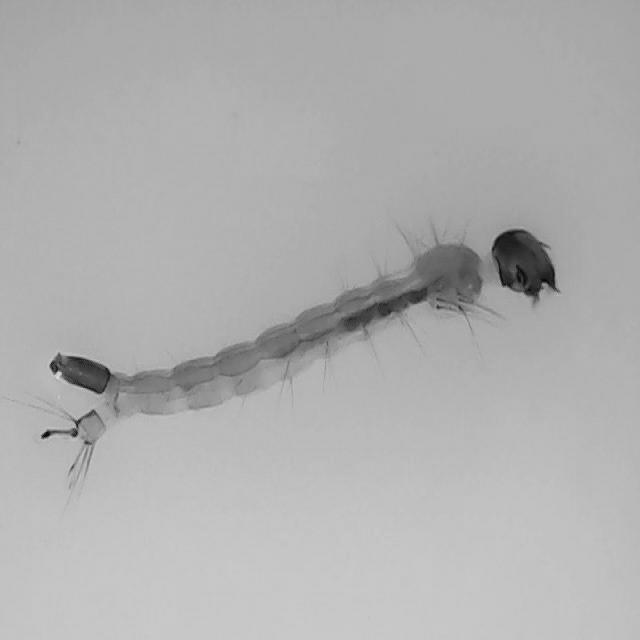larvas: (49, 227, 558, 475)
